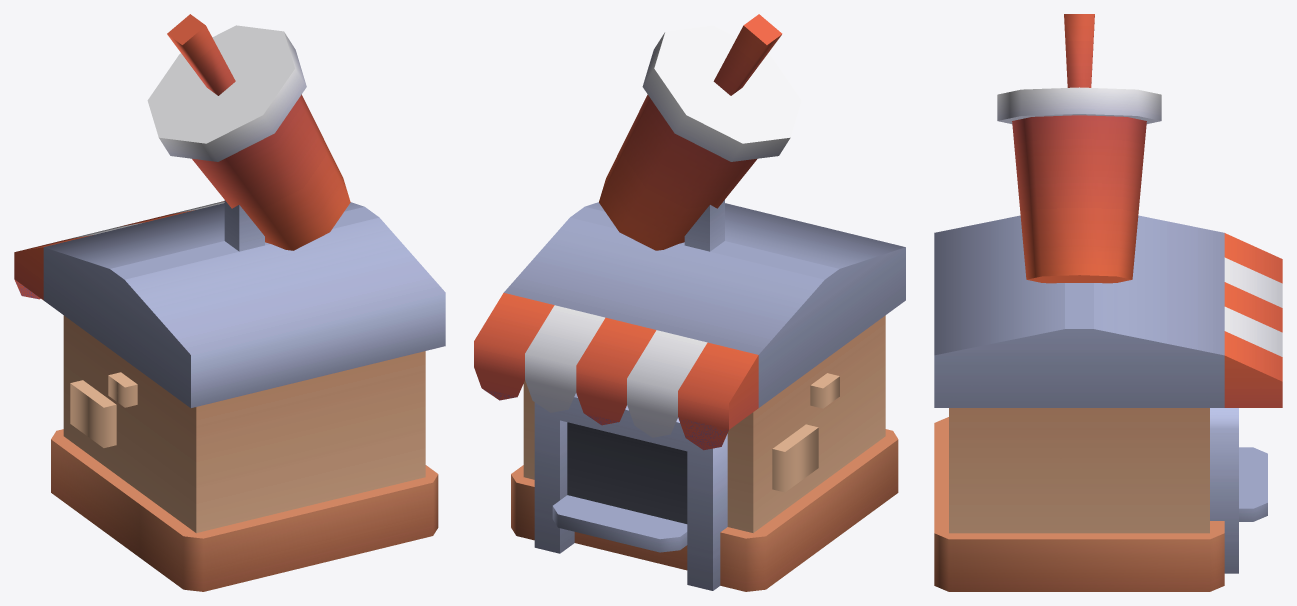
File: stall-drinks.glb
The picture shows the model from 3 angles, left to right: view 1: azimuth 30°, elevation 25°; view 2: azimuth 150°, elevation 25°; view 3: azimuth 270°, elevation 25°; orthographic projection.
Parts seen in each view (by area): view 1: stall-drinks; view 2: stall-drinks; view 3: stall-drinks.
Boxes of the visible parts, box(x1,y1,x2,y2) form: stall-drinks: box(14, 14, 445, 591); stall-drinks: box(474, 14, 905, 591); stall-drinks: box(934, 14, 1282, 591).
Size of the model in its own units: 0.9999 by 1.88 by 1.2.
Materials: 1 (1 with a texture image).
